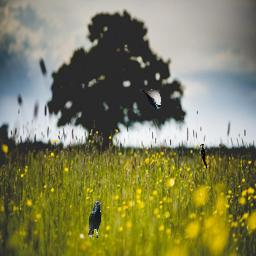Crow: (88, 201, 101, 238)
Swallow: (140, 89, 162, 109)
Woodpecker: (199, 142, 209, 170)
